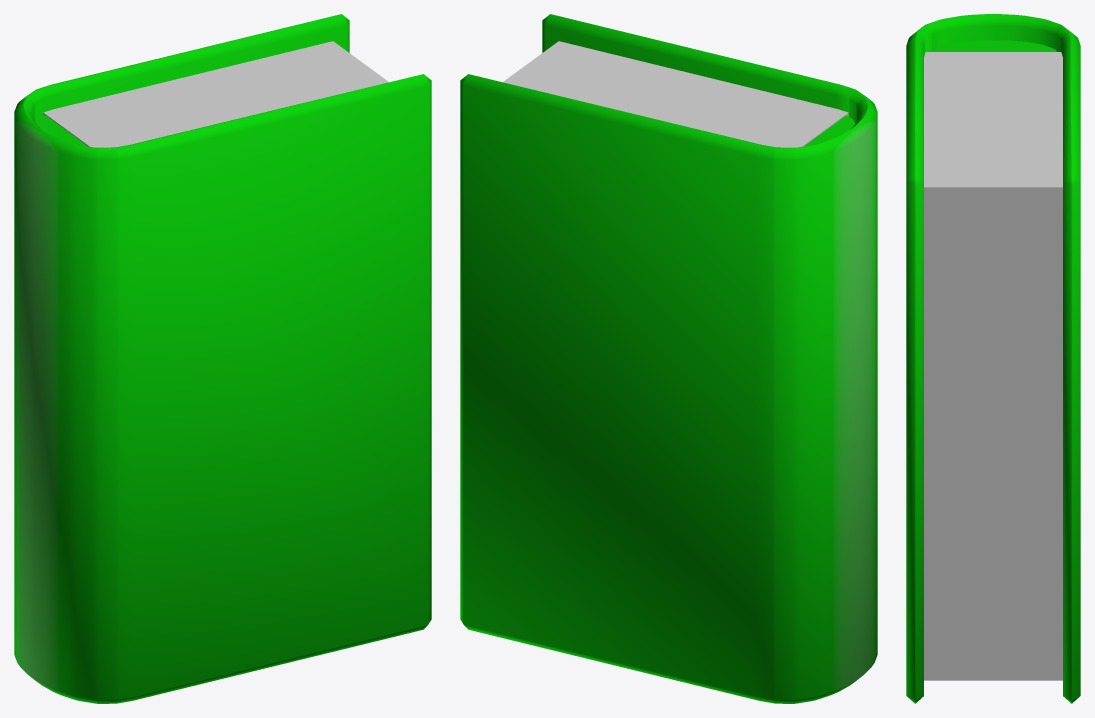
The model's file is book-green.fbx.
The picture shows the model from 3 angles, left to right: view 1: azimuth 30°, elevation 25°; view 2: azimuth 150°, elevation 25°; view 3: azimuth 270°, elevation 25°; orthographic projection. The views are drawn at different scales.
Parts seen in each view (by area): view 1: Book.003; view 2: Book.003; view 3: Book.003.
Part boxes in pixels (bbox=[...]): Book.003: bbox=[14, 14, 431, 703]; Book.003: bbox=[460, 14, 877, 703]; Book.003: bbox=[906, 14, 1080, 703].
Size of the model in its own units: 82.35 by 122 by 36.22.
1 material, 1 textured.
